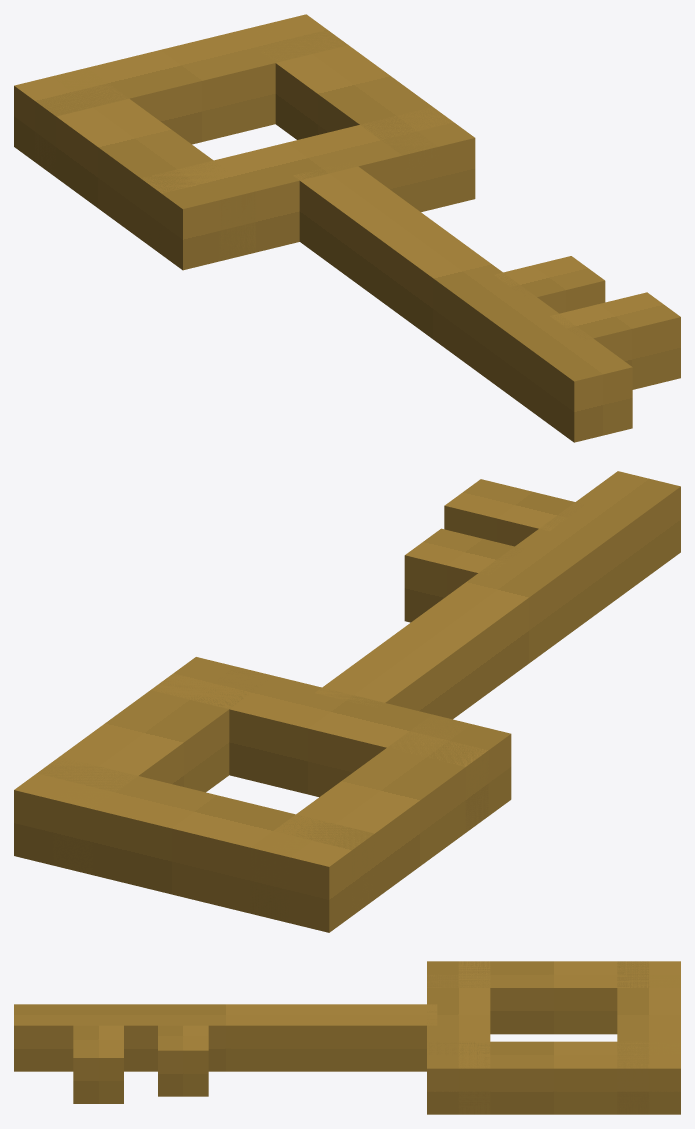
File: item_key.glb
3 views of the same model, one above another, from view 1: azimuth 30°, elevation 25°; view 2: azimuth 150°, elevation 25°; view 3: azimuth 270°, elevation 25° (orthographic). The views are drawn at different scales.
Parts seen in each view (by area): view 1: shaft, bow_b, bow_t, bow_l, bow_r, tooth_1, tooth_2; view 2: shaft, bow_t, bow_l, bow_b, bow_r, tooth_1, tooth_2; view 3: shaft, bow_r, bow_l, bow_t, bow_b, tooth_1, tooth_2.
Boxes of the visible parts, bbox=[...] form: shaft: bbox=[293, 165, 632, 442]; bow_b: bbox=[141, 107, 475, 270]; bow_t: bbox=[14, 14, 347, 176]; bow_l: bbox=[14, 68, 255, 266]; bow_r: bbox=[242, 14, 474, 209]; tooth_1: bbox=[550, 292, 680, 389]; tooth_2: bbox=[494, 256, 605, 313]; shaft: bbox=[315, 471, 680, 719]; bow_t: bbox=[14, 757, 373, 932]; bow_l: bbox=[250, 715, 511, 932]; bow_b: bbox=[151, 657, 511, 832]; bow_r: bbox=[14, 657, 273, 873]; tooth_1: bbox=[444, 479, 583, 546]; tooth_2: bbox=[404, 528, 523, 622]; shaft: bbox=[14, 1004, 437, 1071]; bow_r: bbox=[427, 1041, 680, 1114]; bow_l: bbox=[427, 961, 680, 1034]; bow_t: bbox=[617, 961, 680, 1114]; bow_b: bbox=[427, 961, 490, 1114]; tooth_1: bbox=[73, 1025, 123, 1103]; tooth_2: bbox=[158, 1025, 208, 1096].
Size of the model in its own units: 0.06 by 0.012 by 0.1575.
1 material, 1 textured.
